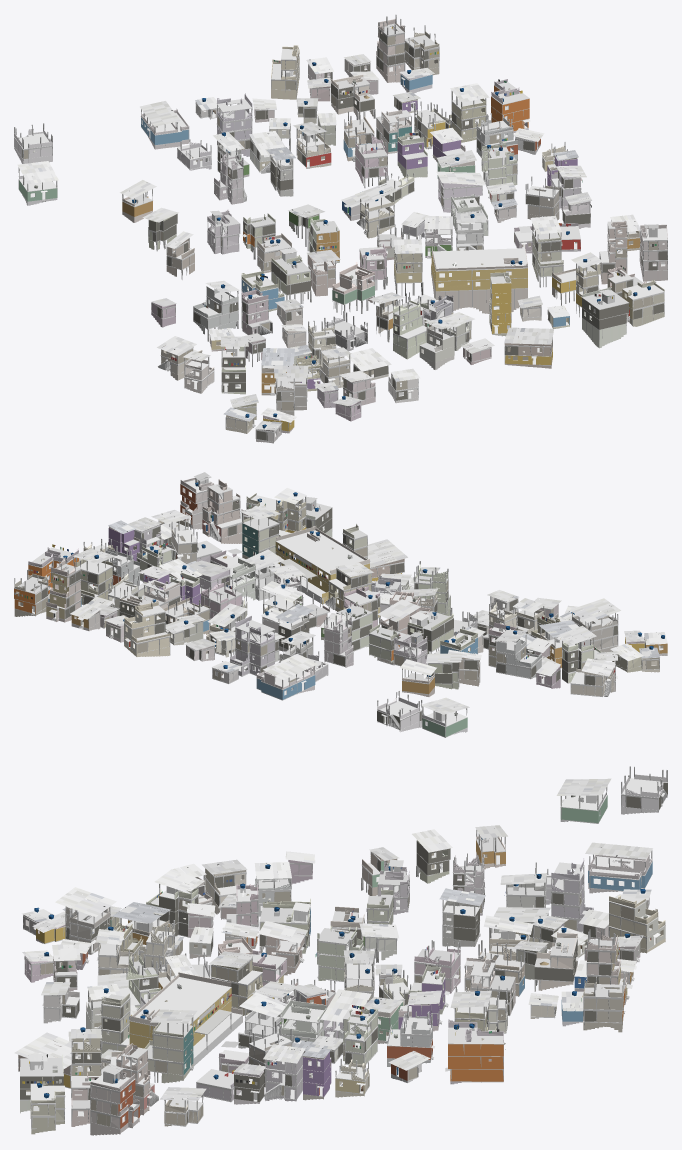
3 renders of one model, top to bottom at view 1: azimuth 30°, elevation 25°; view 2: azimuth 150°, elevation 25°; view 3: azimuth 270°, elevation 25°, orthographic. The views are drawn at different scales.
Parts seen in each view (by area): view 1: T_25_25; view 2: T_25_25; view 3: T_25_25.
Part boxes in pixels (x1,y1,x2,y2): T_25_25: [14, 14, 667, 443]; T_25_25: [14, 472, 667, 737]; T_25_25: [14, 766, 667, 1135].
Bounding box in the file's own units: 138 × 48.03 × 135.
